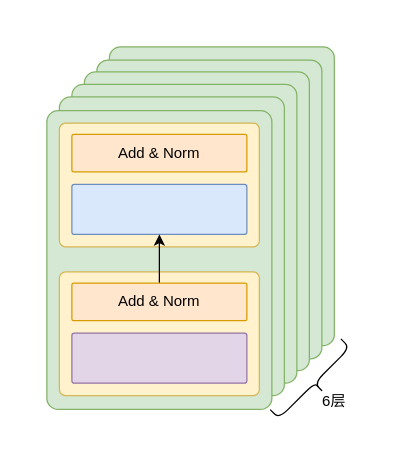
This 393x455 diagram has some shape labels left out. Each missing label, with the centre of its shape:
"Feed Forward Natural Network" goes at (x=159, y=208).
"Multi-Head Attention" goes at (x=159, y=357).
